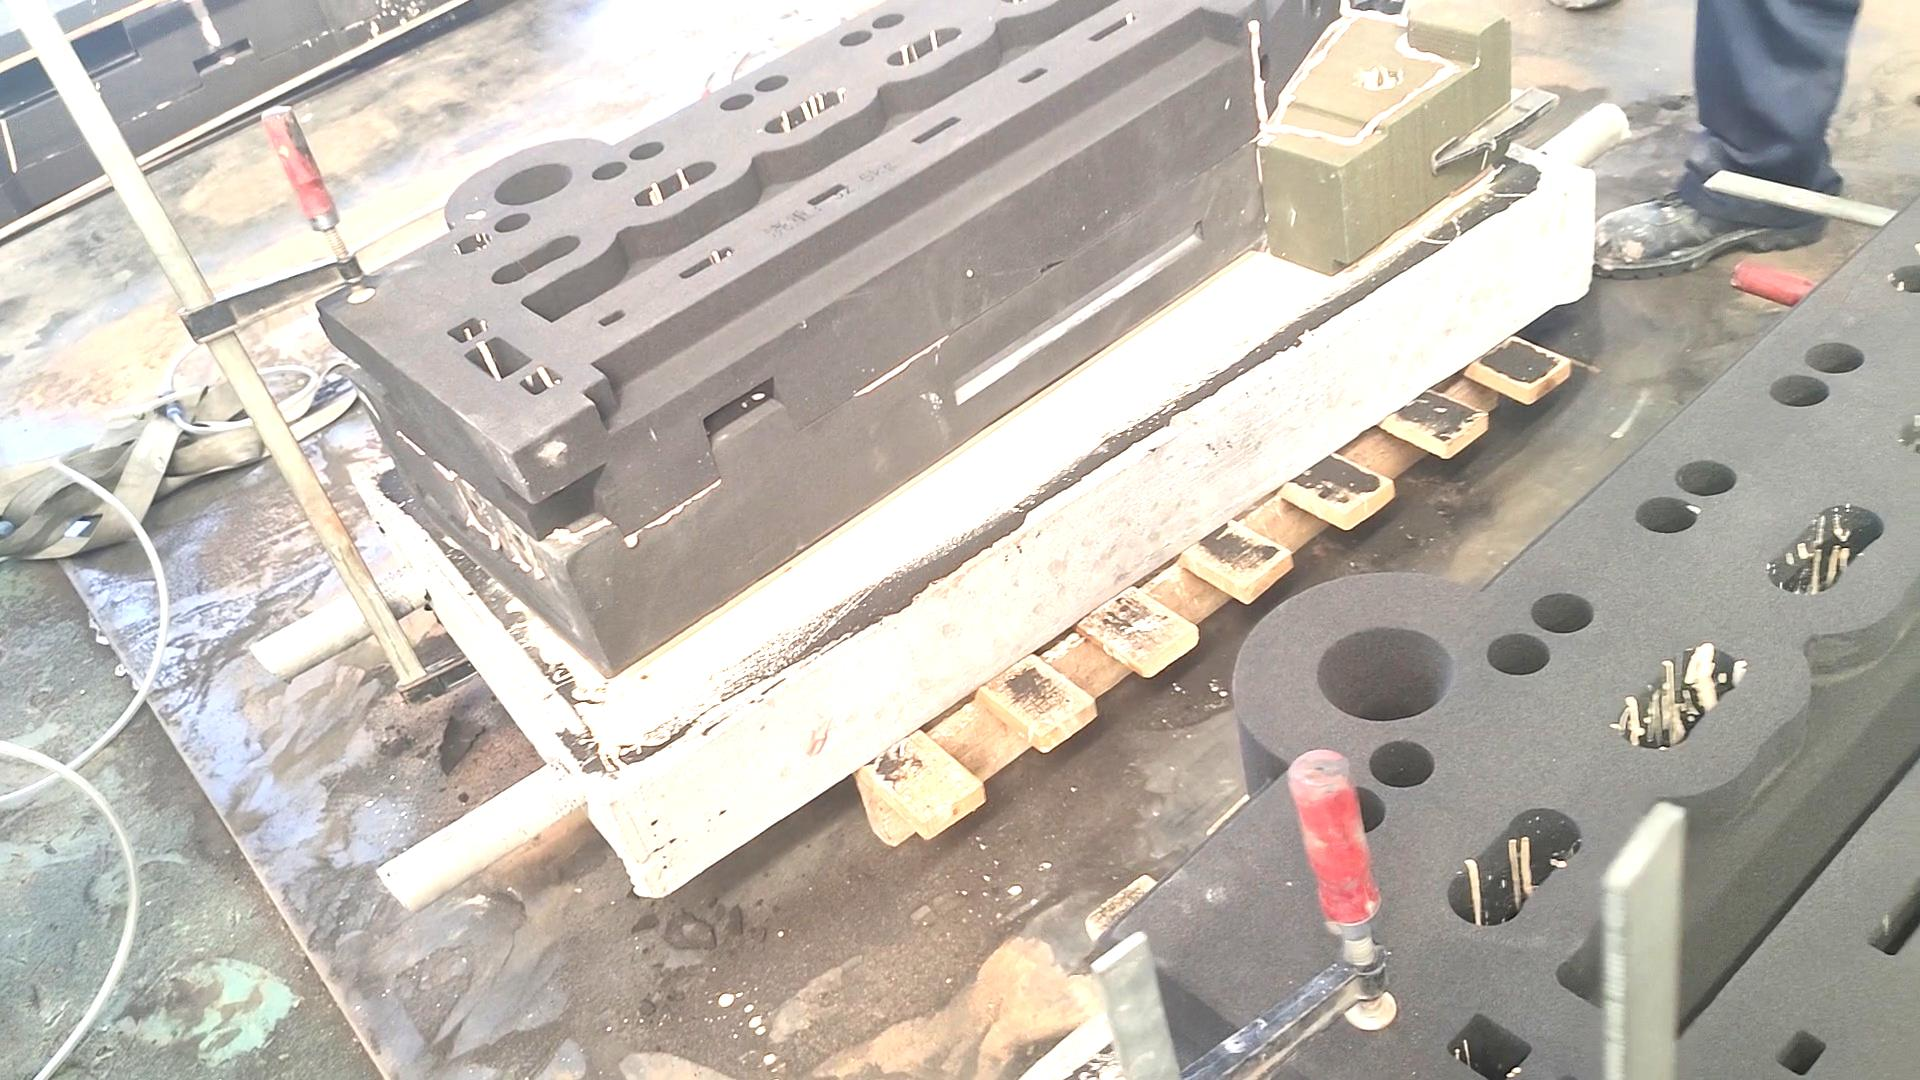pouring hole: (1317, 628, 1455, 721), (493, 161, 574, 206)
